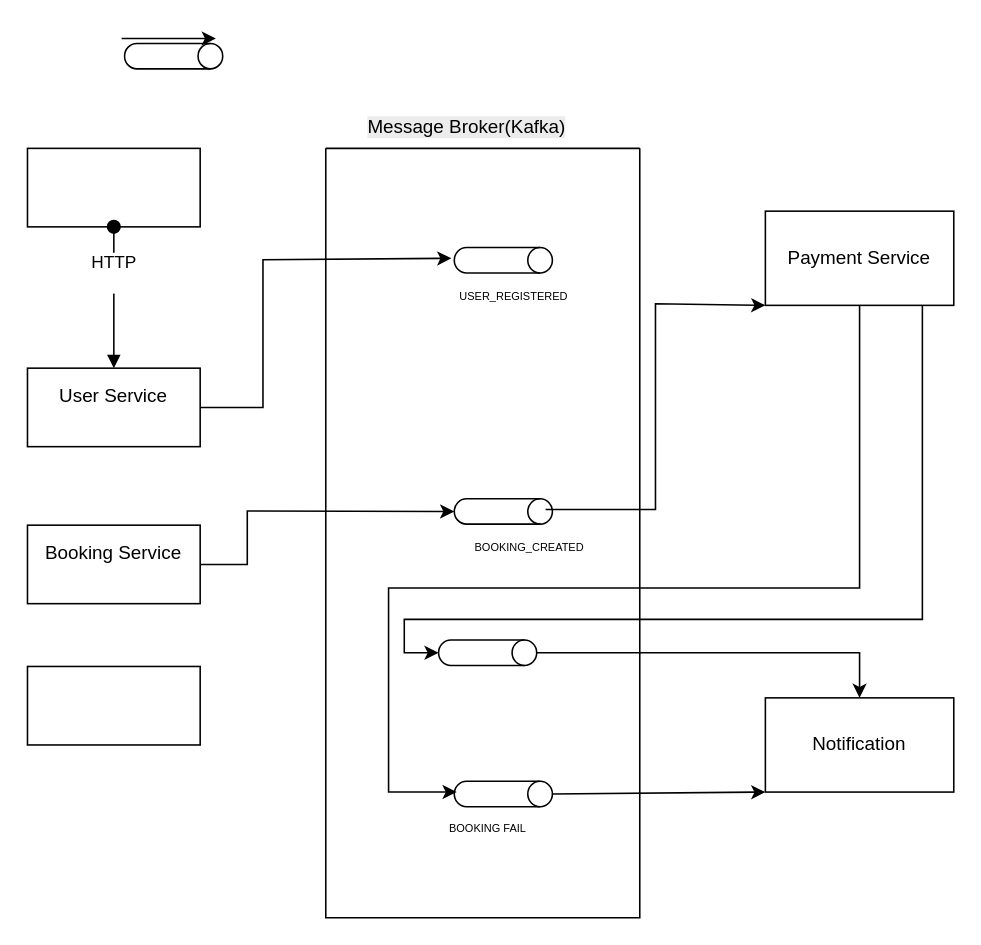
Image size: 981x945. Some labels were removed from this diagram. The shapes that lost their labels are listed below. From the top down, each one's box as (x1, y1, x2, y2) in pixels, then its label:
(26, 147, 200, 227): Front-end (ReactJS)
(437, 639, 537, 666): PAYMENT_COMPLETED
(26, 665, 200, 745): Movie Service
